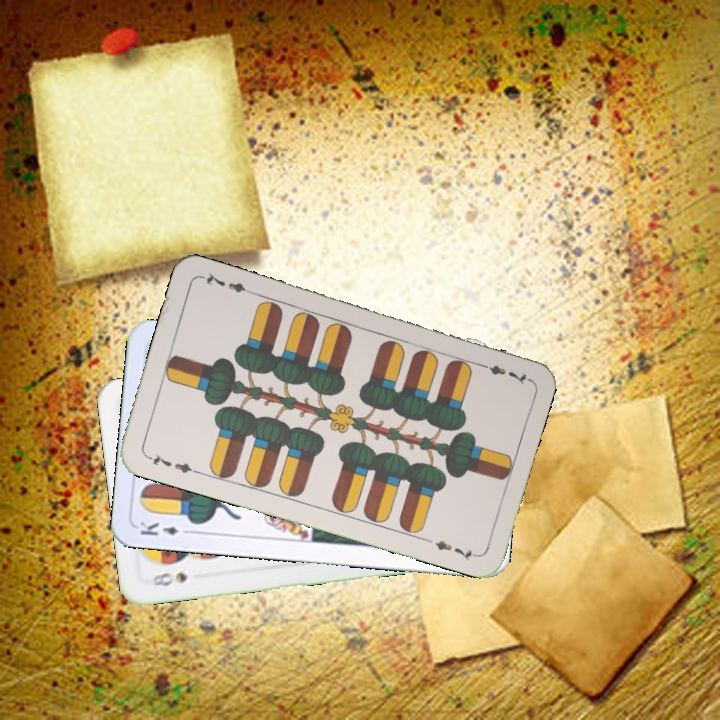E7: (473, 358, 531, 387), (143, 450, 200, 476)
EK: (136, 517, 194, 539)
S8: (148, 568, 190, 589)
